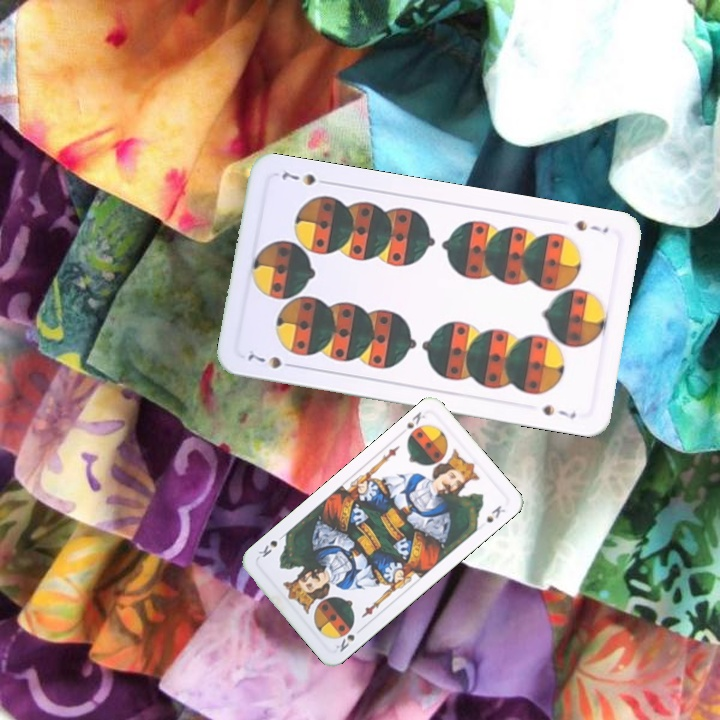S7: (243, 350, 299, 372), (572, 216, 611, 236)
SK: (332, 623, 366, 655), (402, 407, 428, 431)
